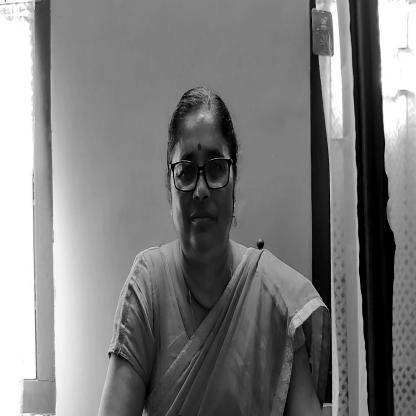Normal: (158, 98, 236, 262)
